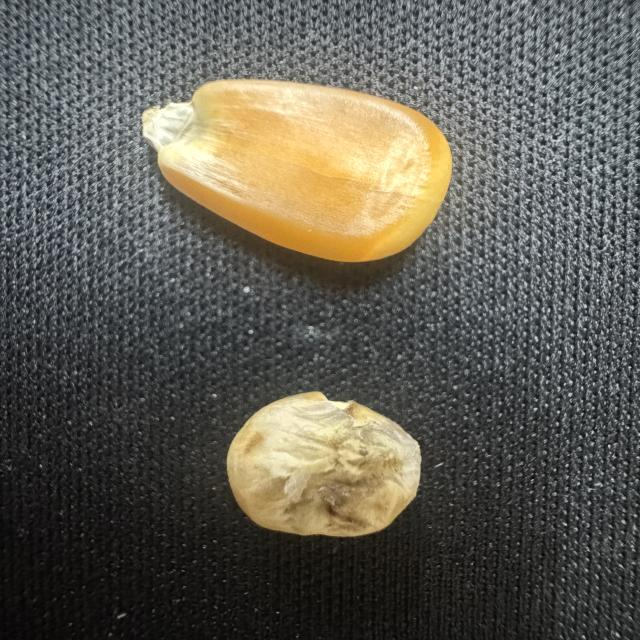Bad-Seed: (214, 375, 435, 546)
Good-Seed: (132, 72, 456, 270)
